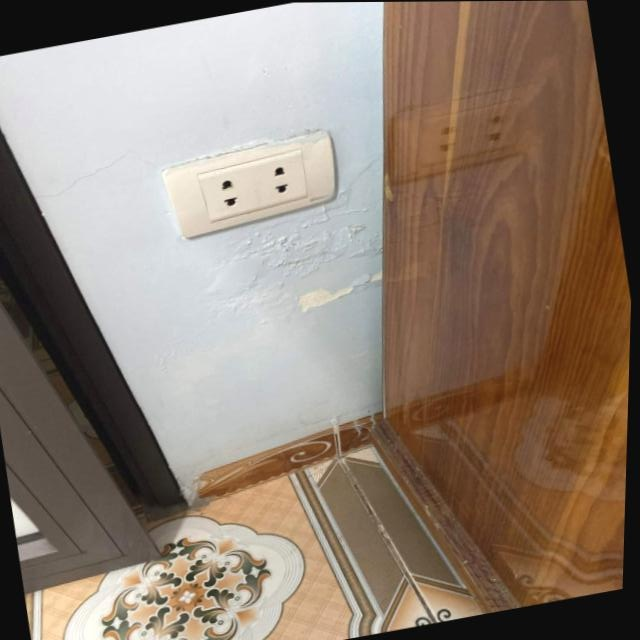outlet: (158, 126, 347, 242)
